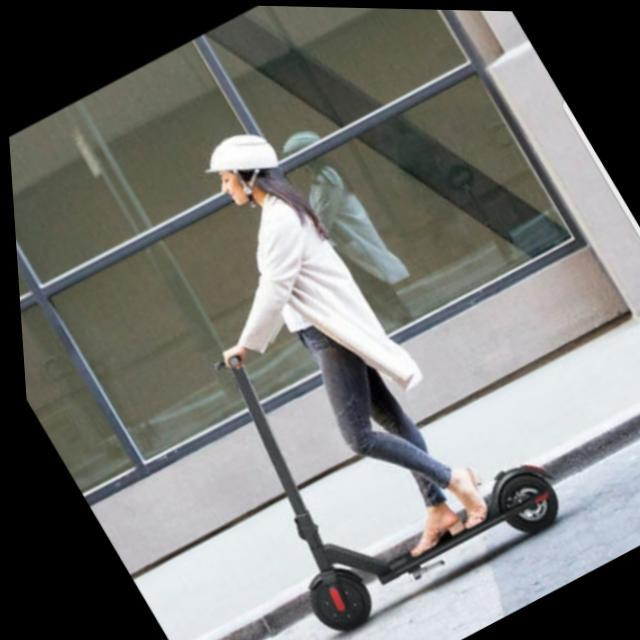Helmet: (199, 124, 287, 212)
